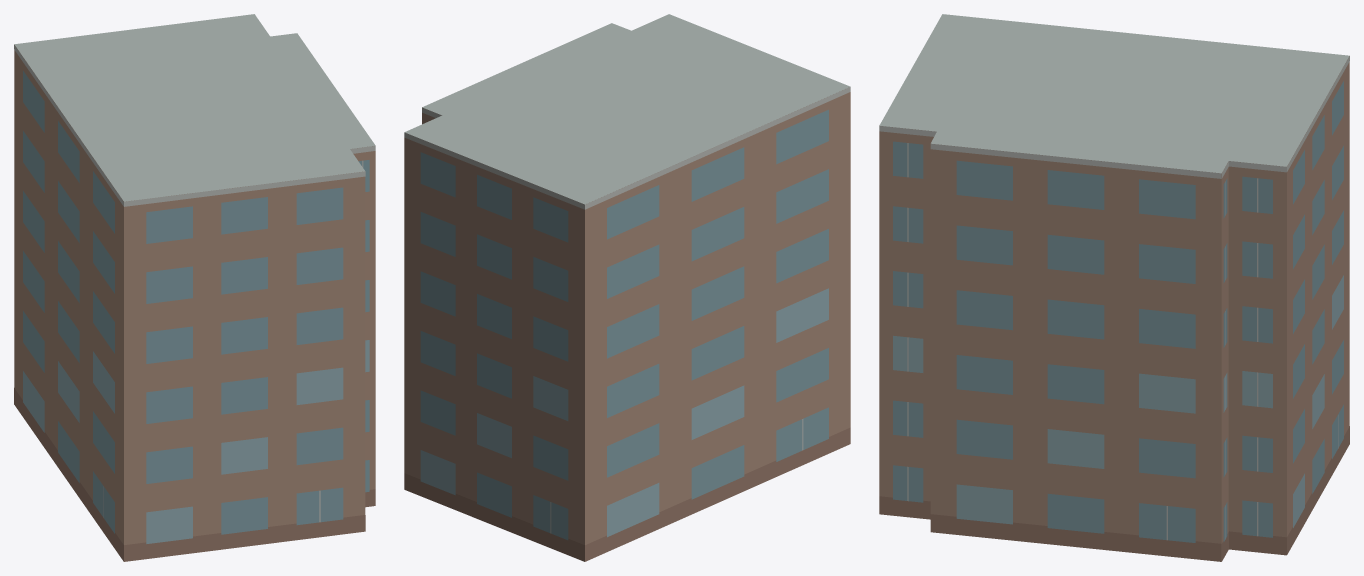
File: survey-upis-32705485.glb
3 renders of one model, left to right at view 1: azimuth 30°, elevation 25°; view 2: azimuth 150°, elevation 25°; view 3: azimuth 270°, elevation 25°, orthographic. The views are drawn at different scales.
Parts seen in each view (by area): view 1: survey-upis-32705485.tmp; view 2: survey-upis-32705485.tmp; view 3: survey-upis-32705485.tmp.
Part boxes in pixels (left/top/right/bottom): survey-upis-32705485.tmp: left=14, top=14, right=375, bottom=561; survey-upis-32705485.tmp: left=404, top=14, right=850, bottom=561; survey-upis-32705485.tmp: left=879, top=14, right=1349, bottom=561.
Bounding box in the file's own units: 14.88 × 16.9 × 18.56.
